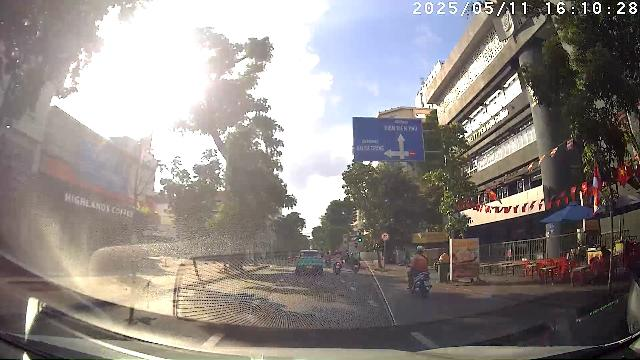123b-cam-re-phai: (381, 232, 389, 240)
